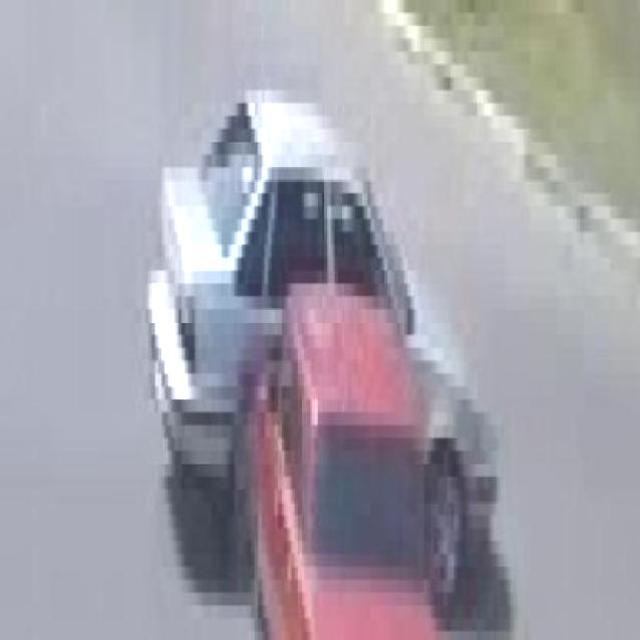accident: (138, 90, 493, 640)
